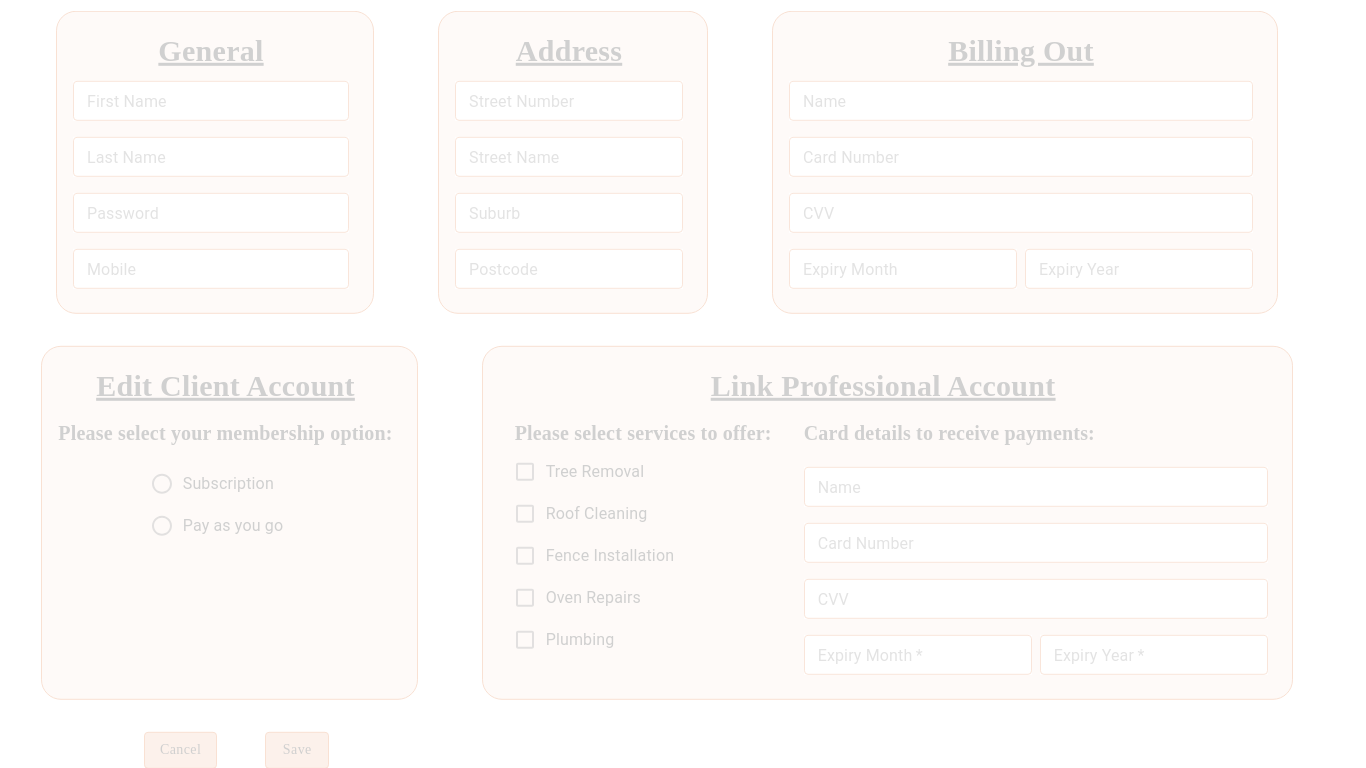
Test: <EditProfileForm> › should display success message if user was updated successfully
(page scrolled)
Click the button "Save" at (297, 750), box [265,732,329,767]
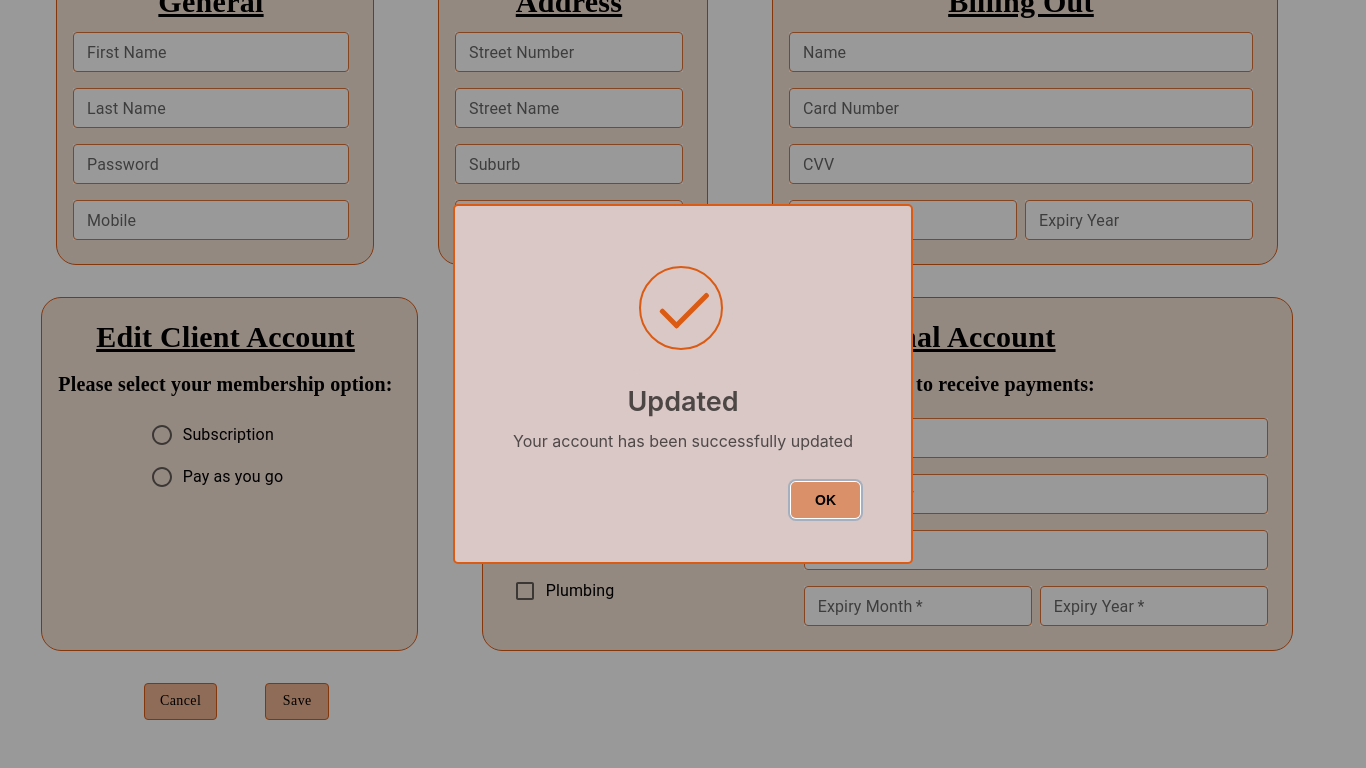
Expected: the text "Updated" is shown, [627,385,739,418]
